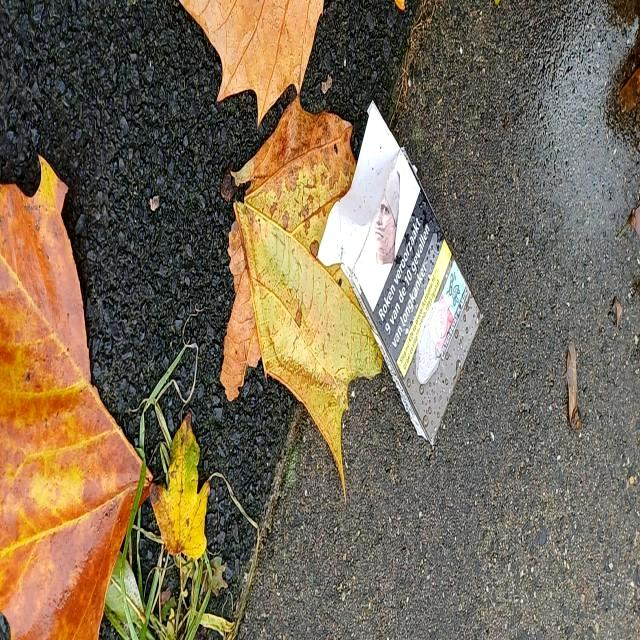Paper: (314, 94, 486, 452)
